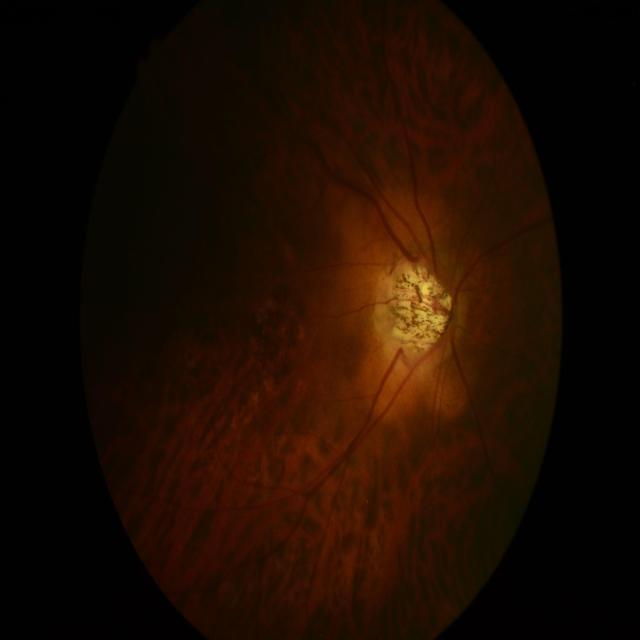cup: (403, 266, 453, 356)
disk: (401, 261, 472, 364)
